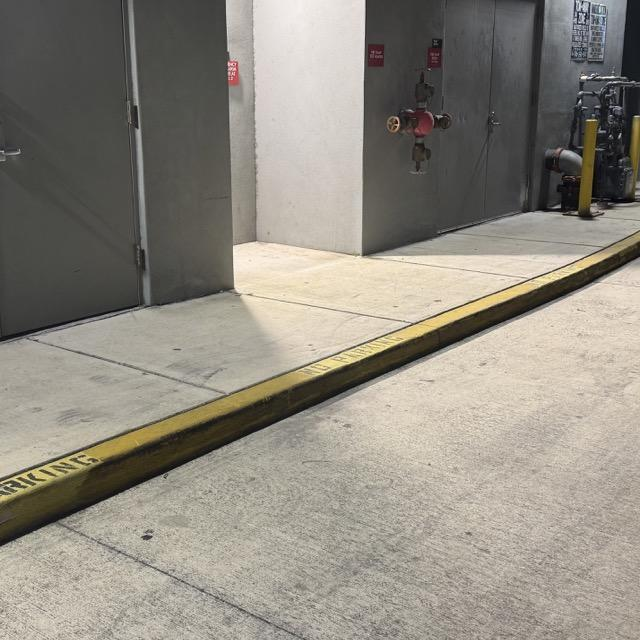curb: (0, 231, 639, 544)
